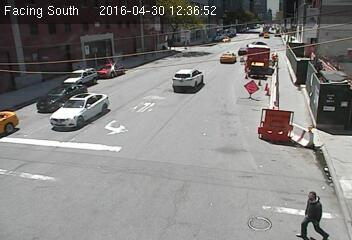neg: (127, 56, 140, 73), (198, 53, 211, 69)
pos: (293, 187, 330, 236)
